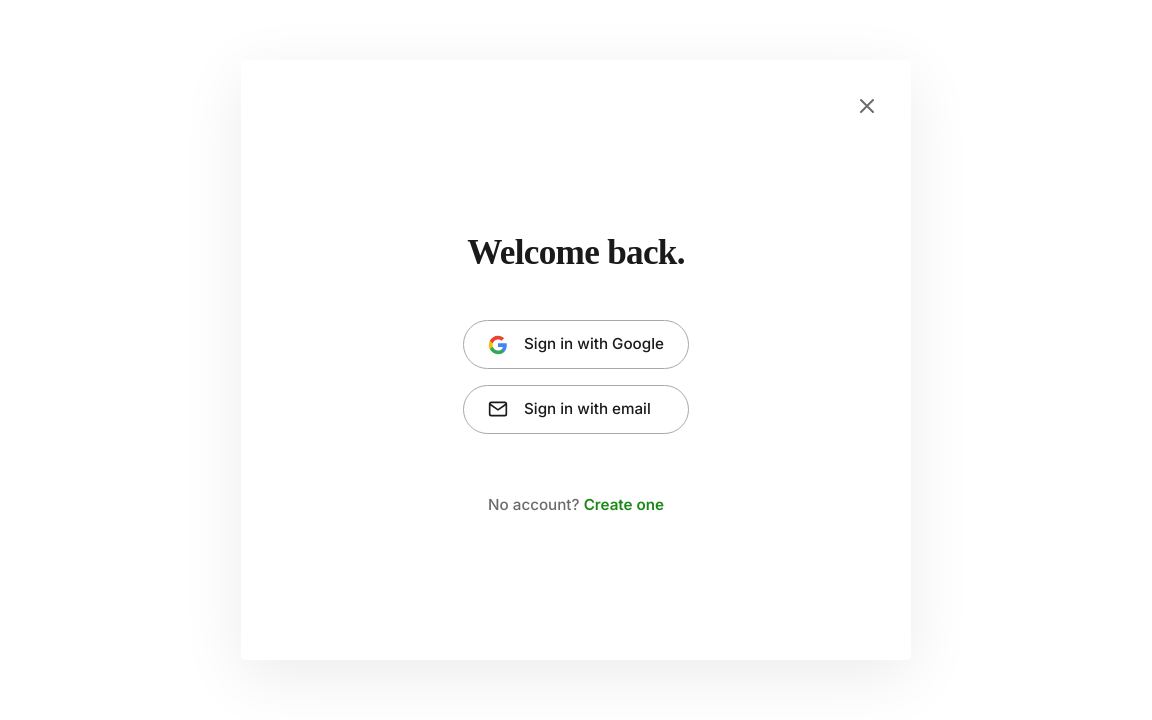
Test case: Login Component › handles invalid 2FA code during login
The width and height of the screenshot is (1152, 720).
Click the button "Sign in with email" at (576, 409), box [463,385,689,434]
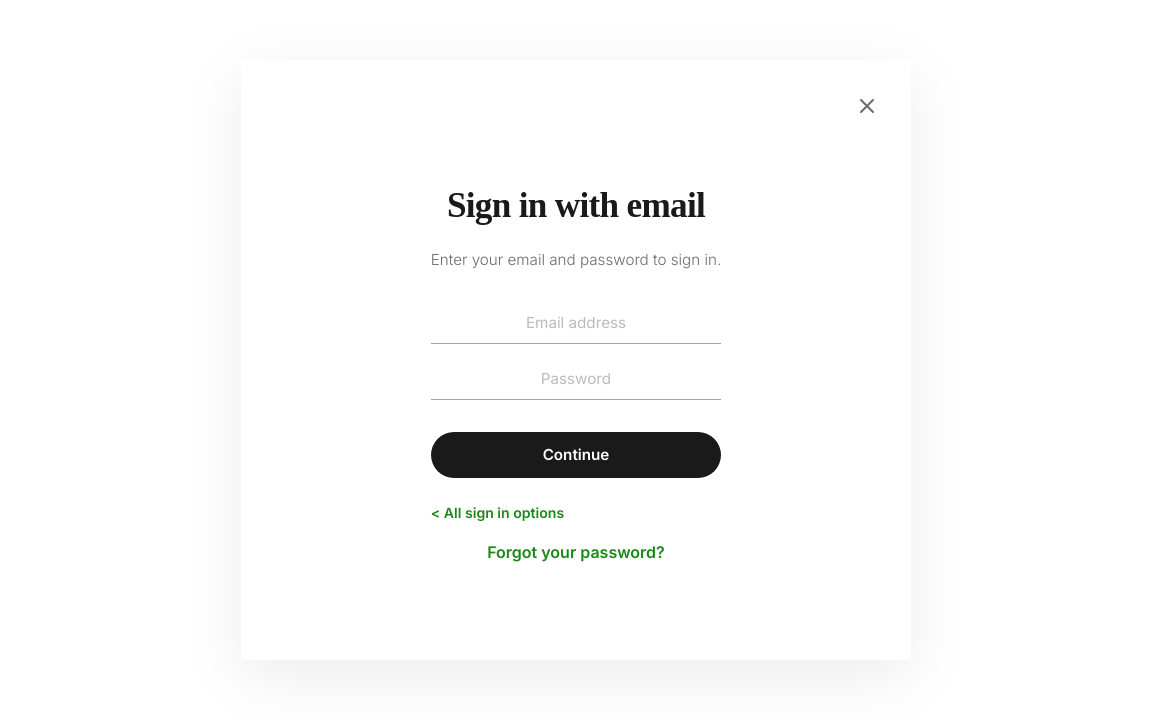
Type "test@example.com" into the field with placeholder "Email address" at (576, 324), box [431,304,721,344]
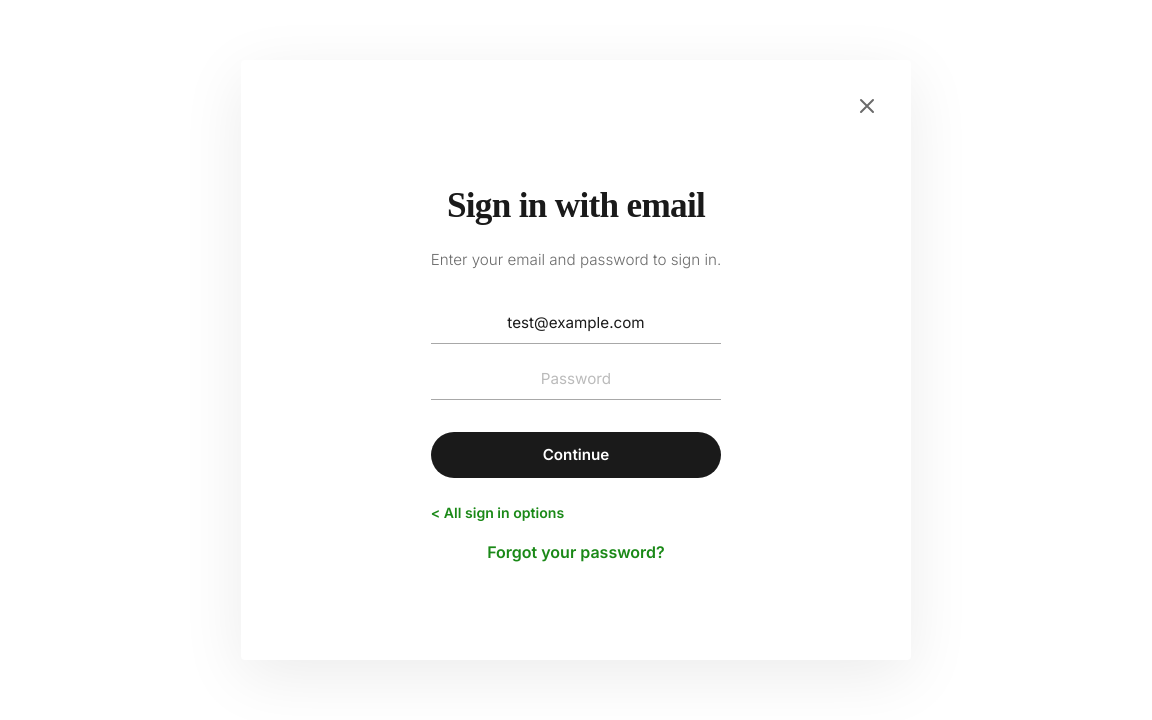
Type "amrit123" into the password field with placeholder "Password" at (576, 380), box [431,360,721,400]
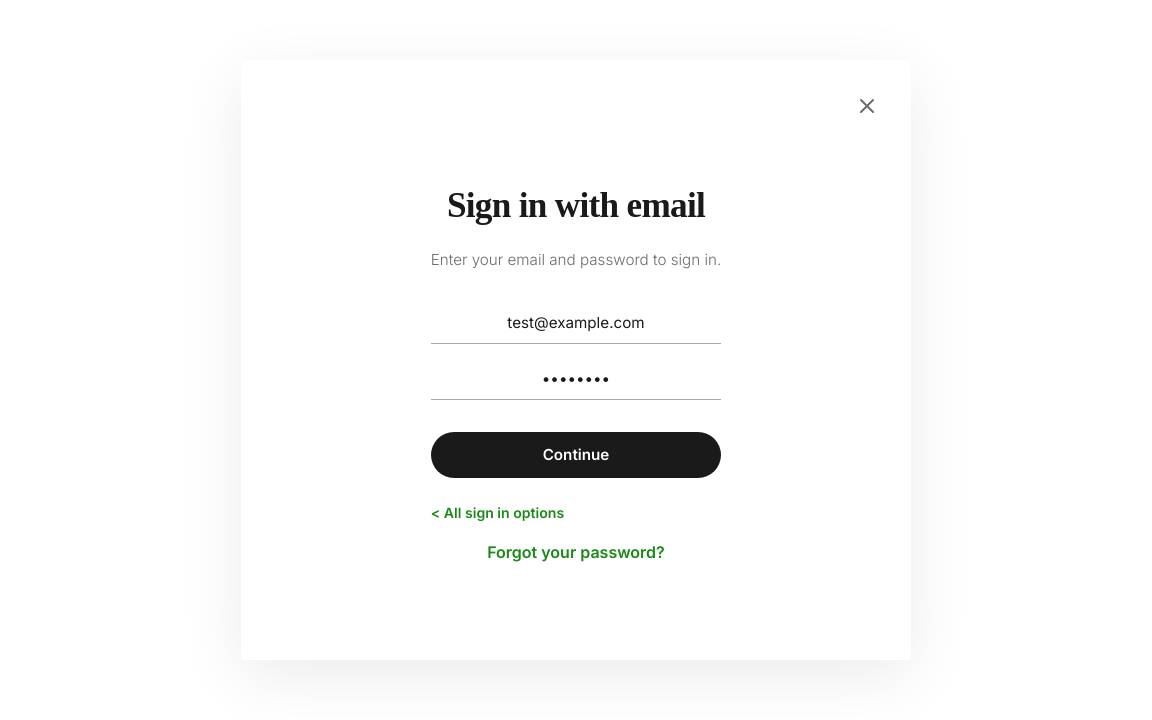
Click the button with id "login-submit-btn" at (576, 455), box [431,432,721,478]
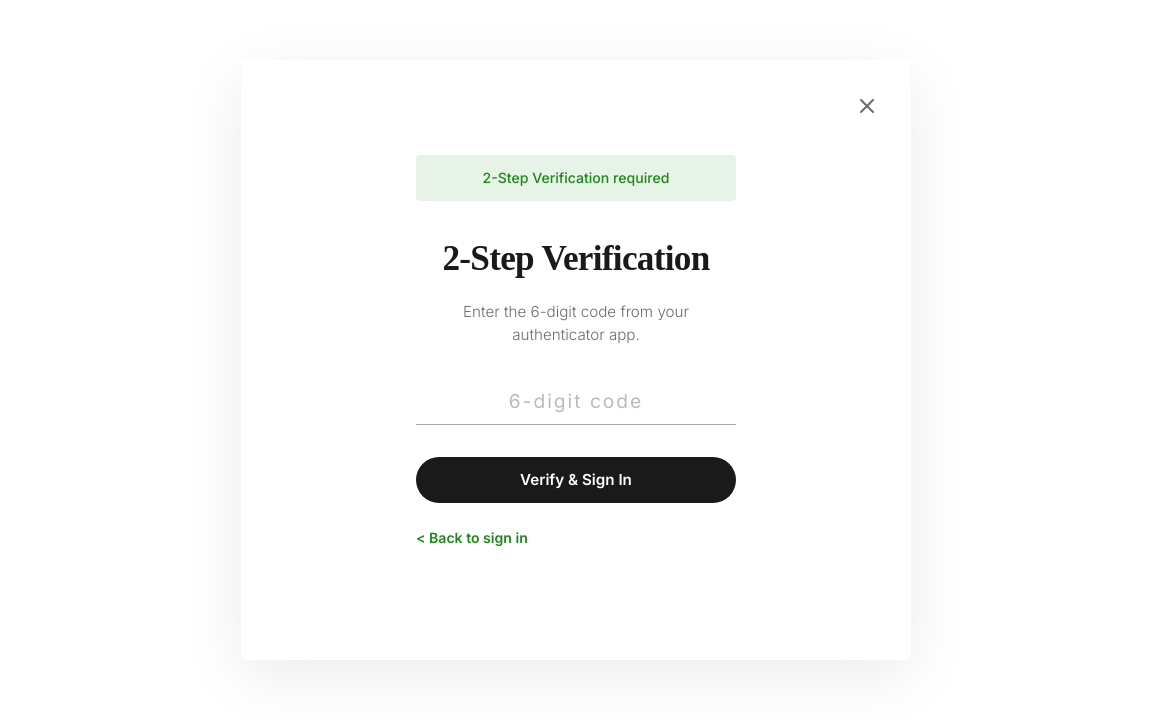
Expected: the heading "2-Step Verification" is shown, [442,238,710,278]
Type "111111" into the field with placeholder "6-digit code" at (576, 402), box [416,379,736,425]
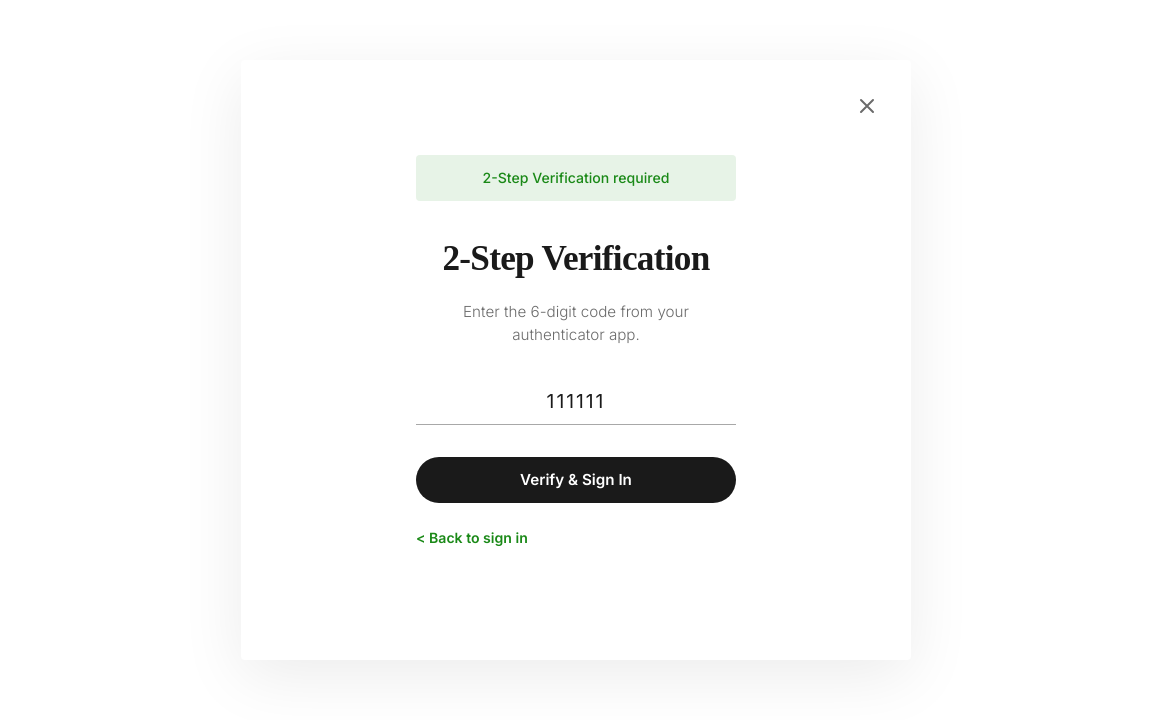
Click the button "Verify & Sign In" at (576, 480), box [416,457,736,504]
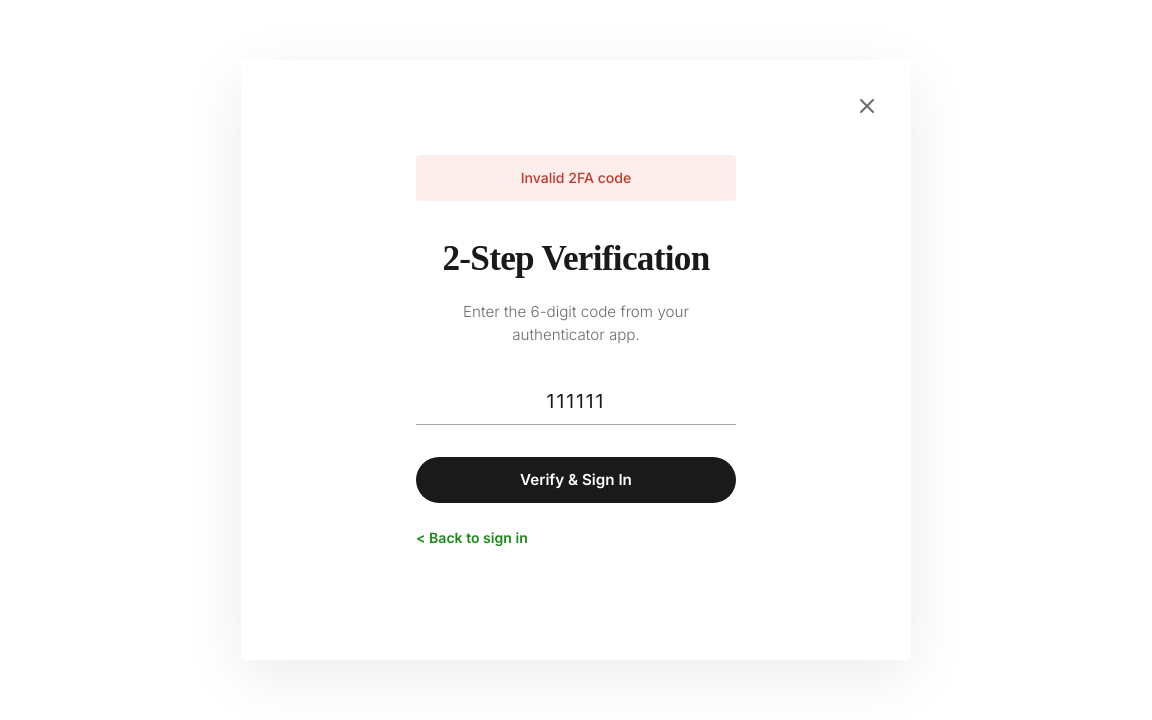
Expected: the text "Invalid 2FA code" is shown, [416,155,736,200]
